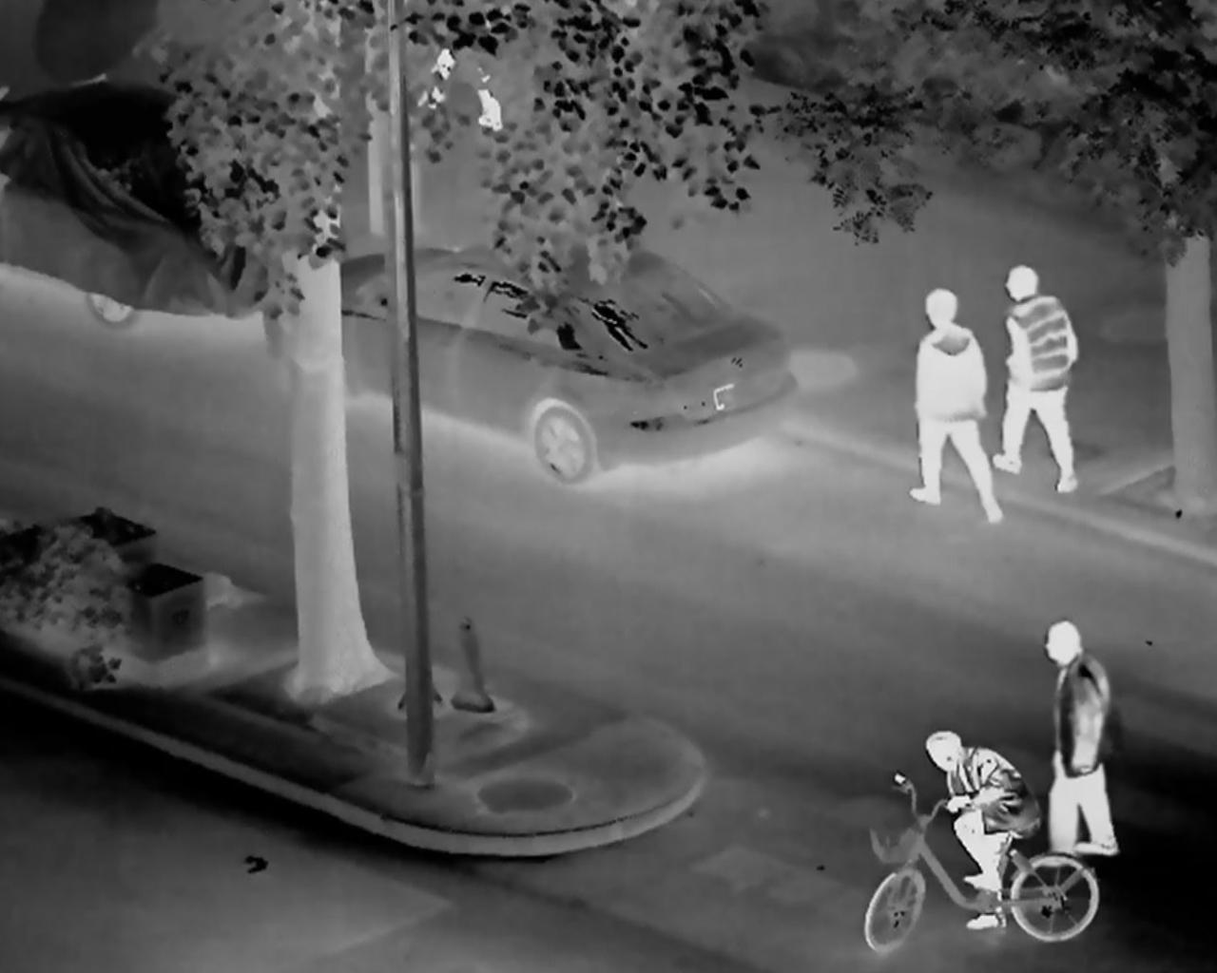person: (923, 732, 1038, 930), (914, 289, 1002, 525), (993, 264, 1081, 497), (1043, 618, 1118, 864)
